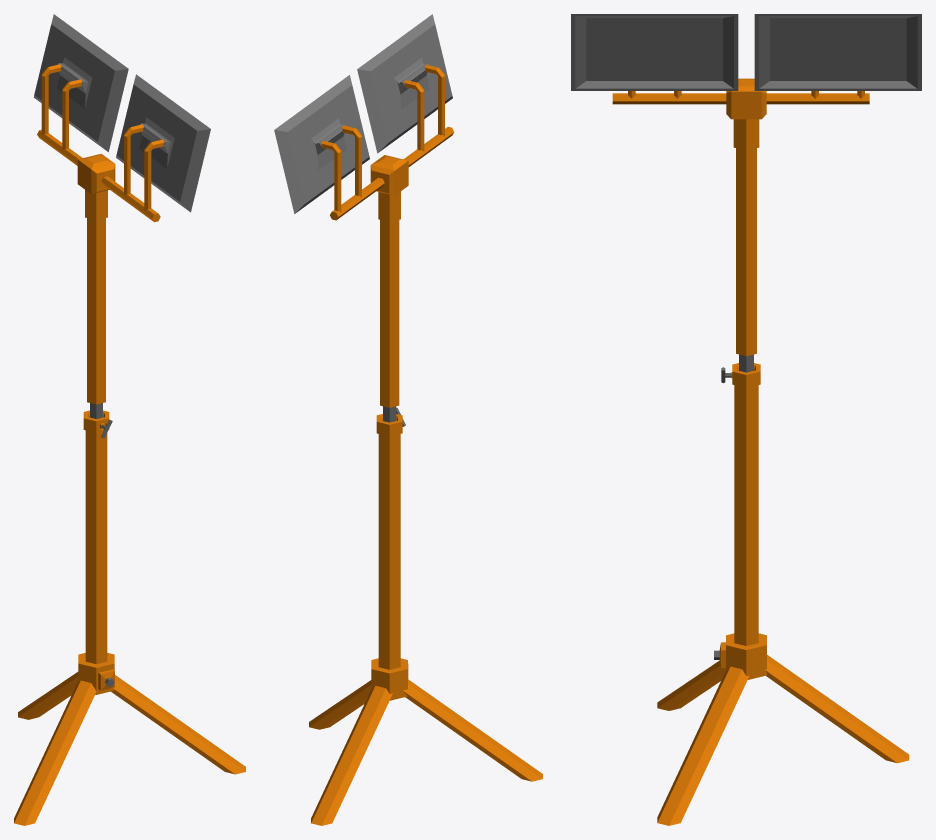
File: lamp_upped_obj.glb
3 renders of one model, left to right at view 1: azimuth 30°, elevation 25°; view 2: azimuth 150°, elevation 25°; view 3: azimuth 270°, elevation 25°, orthographic. The views are drawn at different scales.
Parts seen in each view (by area): view 1: name3, name4, name1, name0; view 2: name3, name4, name1, name0; view 3: name3, name4, name0, name1.
Boxes of the visible parts, x1,y1,x2,y2 form: name3: (33,14,210,212); name4: (14,410,245,825); name1: (37,64,164,222); name0: (85,190,107,404); name3: (274,14,452,213); name4: (309,414,542,825); name1: (321,64,454,220); name0: (378,191,400,407); name3: (571,14,921,90); name4: (657,363,909,825); name0: (733,119,759,356); name1: (612,78,869,119).
Bounding box in the file's own units: 3.35 × 9.5 × 3.93.
